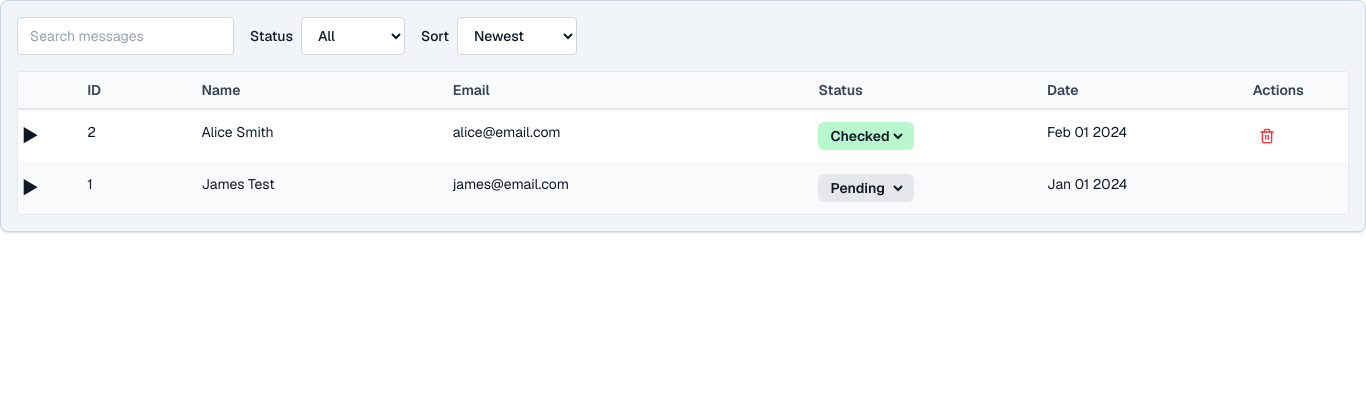
Scenario: expand row shows message details
Click the button named "expand-row": (30, 188) 22,174 -> 38,202
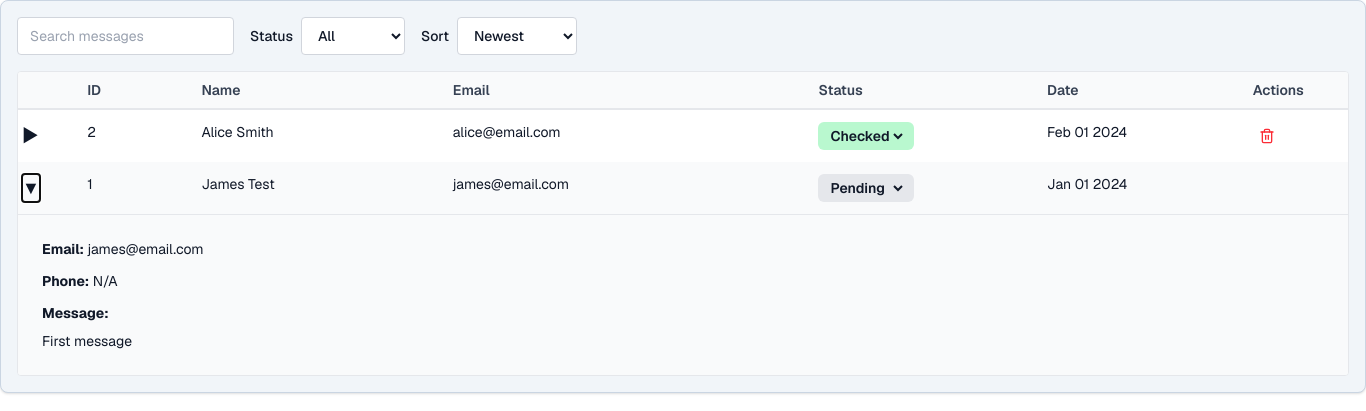
expect the text "First message" is shown: met, box 42,332 -> 132,350
